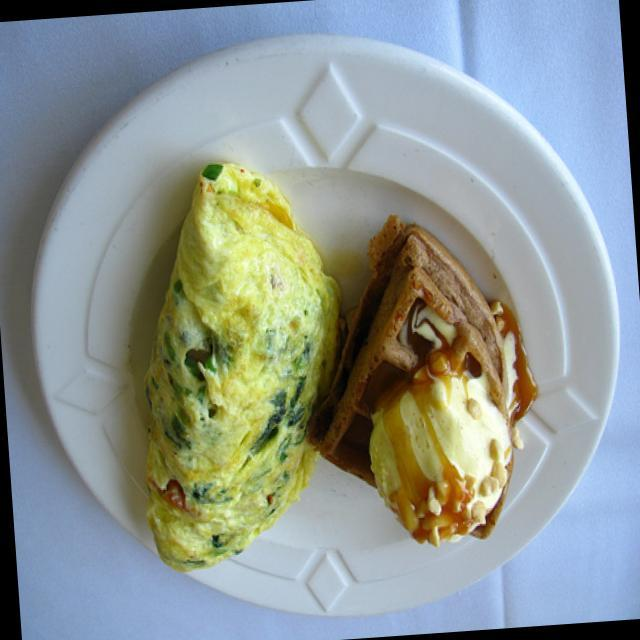Omelet: (122, 156, 351, 585)
